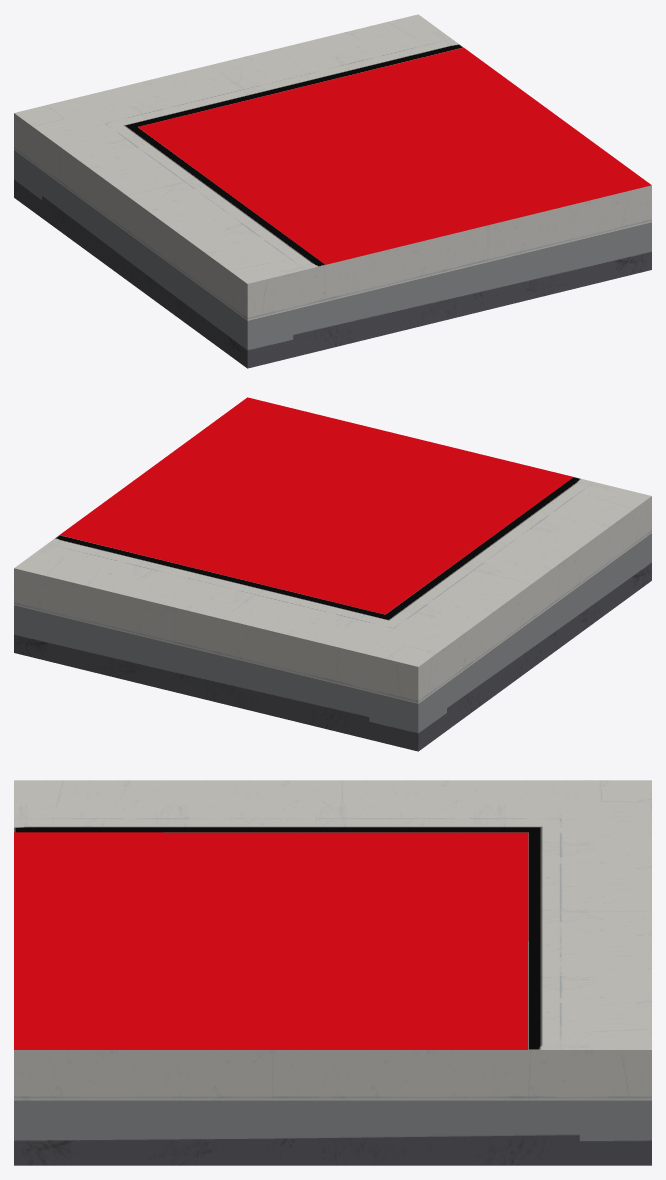
The model's file is G_Env_Arch_Floor_Metal_01_Corner.fbx.
3 renders of one model, top to bottom at view 1: azimuth 30°, elevation 25°; view 2: azimuth 150°, elevation 25°; view 3: azimuth 270°, elevation 25°, orthographic. The views are drawn at different scales.
Parts seen in each view (by area): view 1: G_Env_Arch_Floor_Metal_01_Corner; view 2: G_Env_Arch_Floor_Metal_01_Corner; view 3: G_Env_Arch_Floor_Metal_01_Corner.
Part boxes in pixels (x1,y1,x2,y2): G_Env_Arch_Floor_Metal_01_Corner: (14, 14, 651, 368); G_Env_Arch_Floor_Metal_01_Corner: (14, 397, 651, 751); G_Env_Arch_Floor_Metal_01_Corner: (14, 780, 651, 1165).
Size of the model in its own units: 500 by 100 by 500.
